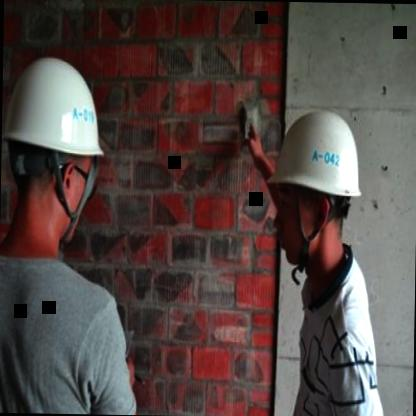helmet: (0, 39, 119, 268), (260, 91, 372, 284)
